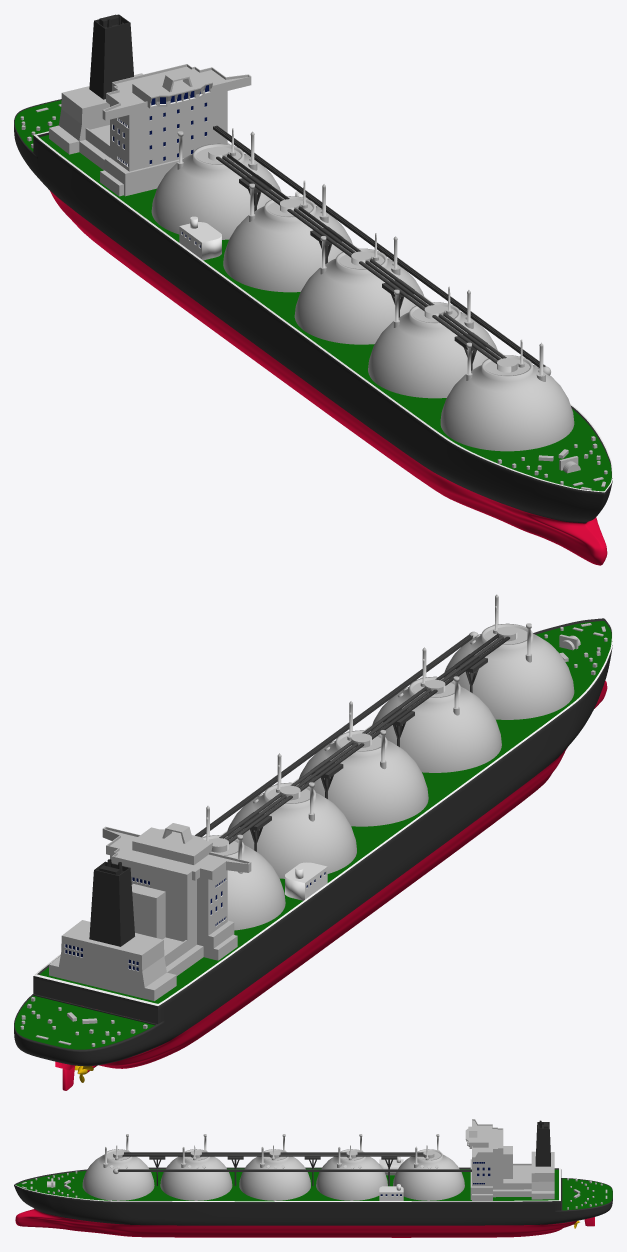
The model's file is lng_ship.fbx.
3 renders of one model, top to bottom at view 1: azimuth 30°, elevation 25°; view 2: azimuth 150°, elevation 25°; view 3: azimuth 270°, elevation 25°, orthographic. The views are drawn at different scales.
Parts seen in each view (by area): view 1: Object_32, Object_6, Object_8, Object_7, Object_5, Object_22, Object_33, Object_4, Object_11, Object_14; view 2: Object_32, Object_6, Object_8, Object_7, Object_5, Object_22, Object_4, Object_33, Object_11; view 3: Object_6, Object_32, Object_5, Object_7, Object_8, Object_22, Object_33, Object_4, Object_11, Object_14, Object_16.
Part boxes in pixels (left/top/right/bottom): Object_32: left=151, top=128, right=574, bottom=451; Object_6: left=14, top=14, right=612, bottom=523; Object_8: left=49, top=64, right=251, bottom=196; Object_7: left=14, top=100, right=611, bottom=491; Object_5: left=49, top=190, right=607, bottom=565; Object_22: left=216, top=154, right=506, bottom=370; Object_33: left=213, top=125, right=545, bottom=367; Object_4: left=34, top=84, right=612, bottom=492; Object_11: left=179, top=191, right=318, bottom=260; Object_14: left=497, top=436, right=607, bottom=490; Object_32: left=202, top=594, right=574, bottom=930; Object_6: left=14, top=618, right=612, bottom=1066; Object_8: left=49, top=823, right=251, bottom=1001; Object_7: left=14, top=621, right=611, bottom=1049; Object_5: left=55, top=681, right=607, bottom=1070; Object_22: left=219, top=634, right=509, bottom=851; Object_4: left=34, top=618, right=612, bottom=1005; Object_33: left=195, top=634, right=472, bottom=837; Object_11: left=201, top=836, right=327, bottom=900; Object_6: left=14, top=1120, right=612, bottom=1225; Object_32: left=82, top=1134, right=464, bottom=1200; Object_5: left=15, top=1209, right=576, bottom=1237; Object_7: left=16, top=1168, right=612, bottom=1210; Object_8: left=465, top=1119, right=554, bottom=1200; Object_22: left=122, top=1152, right=424, bottom=1185; Object_33: left=117, top=1169, right=471, bottom=1171; Object_4: left=14, top=1141, right=560, bottom=1201; Object_11: left=379, top=1156, right=403, bottom=1200; Object_14: left=21, top=1171, right=77, bottom=1197; Object_16: left=567, top=1178, right=607, bottom=1209.
Bounding box in the file's own units: 658 × 851 × 4352.
